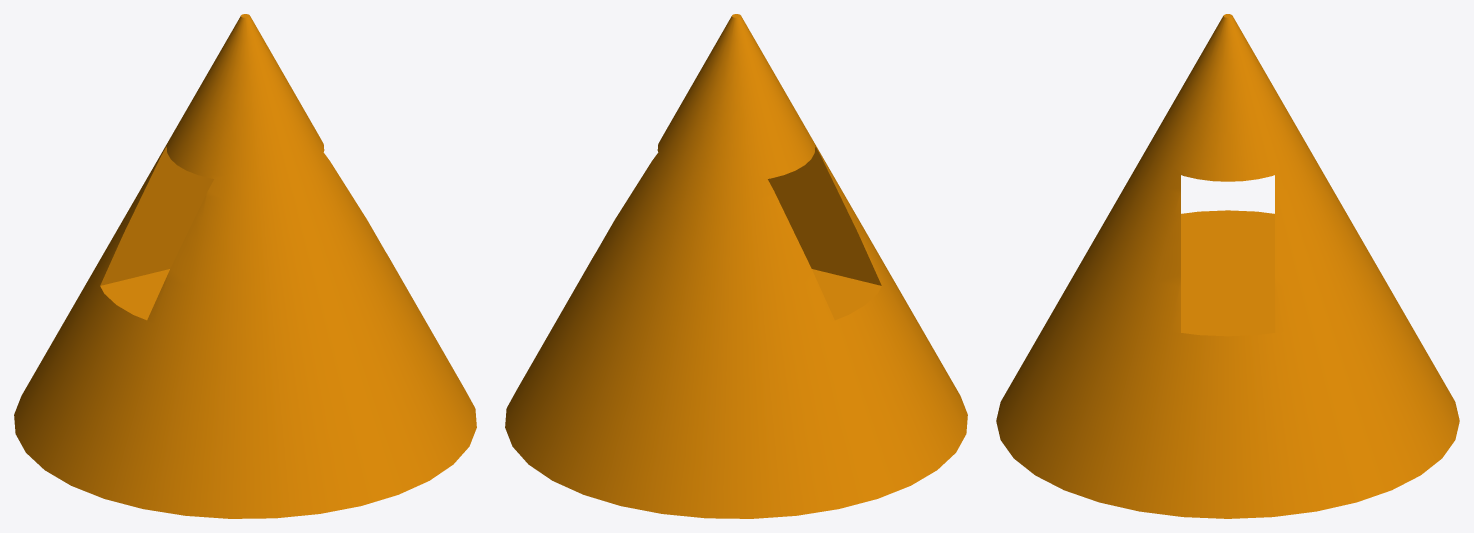
File: var_1.fbx
The picture shows the model from 3 angles, left to right: view 1: azimuth 30°, elevation 25°; view 2: azimuth 150°, elevation 25°; view 3: azimuth 270°, elevation 25°; orthographic projection.
Visible parts, largest first — view 1: Конус; view 2: Конус; view 3: Конус.
Boxes of the visible parts, <box> form: Конус: <box>14,14,476,518</box>; Конус: <box>505,14,967,518</box>; Конус: <box>996,14,1459,518</box>.
Bounding box in the file's own units: 2 × 1.93 × 2.
